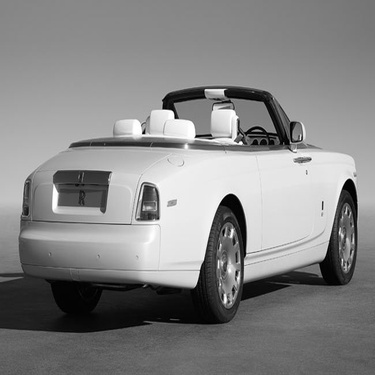car: (1, 76, 364, 326)
